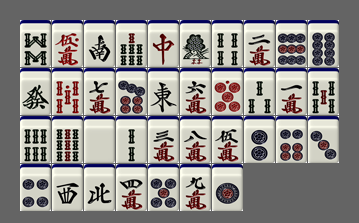0m: (52, 20, 83, 67)
0p: (212, 68, 243, 115)
0s: (52, 68, 83, 115)
1m: (276, 68, 307, 115)
1p: (212, 164, 243, 211)
1s: (180, 20, 211, 67)
1z: (148, 68, 179, 115)
2m: (244, 20, 275, 67)
2p: (244, 116, 275, 163)
2s: (116, 116, 147, 163)
2z: (84, 20, 115, 67)
3m: (148, 116, 179, 163)
3p: (308, 116, 339, 163)
3s: (244, 68, 275, 115)
3z: (52, 164, 83, 211)
4m: (116, 164, 147, 211)
4p: (20, 164, 51, 211)
4s: (212, 20, 243, 67)
4z: (84, 164, 115, 211)
5m: (212, 116, 243, 163)
5p: (148, 164, 179, 211)
5s: (308, 68, 339, 115)
5z: (84, 116, 115, 163)
6m: (180, 68, 211, 115)
6p: (276, 116, 307, 163)
6s: (20, 116, 51, 163)
6z: (20, 68, 51, 115)
7m: (84, 68, 115, 115)
7p: (116, 68, 147, 115)
7s: (116, 20, 147, 67)
7z: (148, 20, 179, 67)
8m: (180, 116, 211, 163)
8p: (308, 20, 339, 67)
8s: (20, 20, 51, 67)
9m: (180, 164, 211, 211)
9p: (276, 20, 307, 67)
9s: (52, 116, 83, 163)
